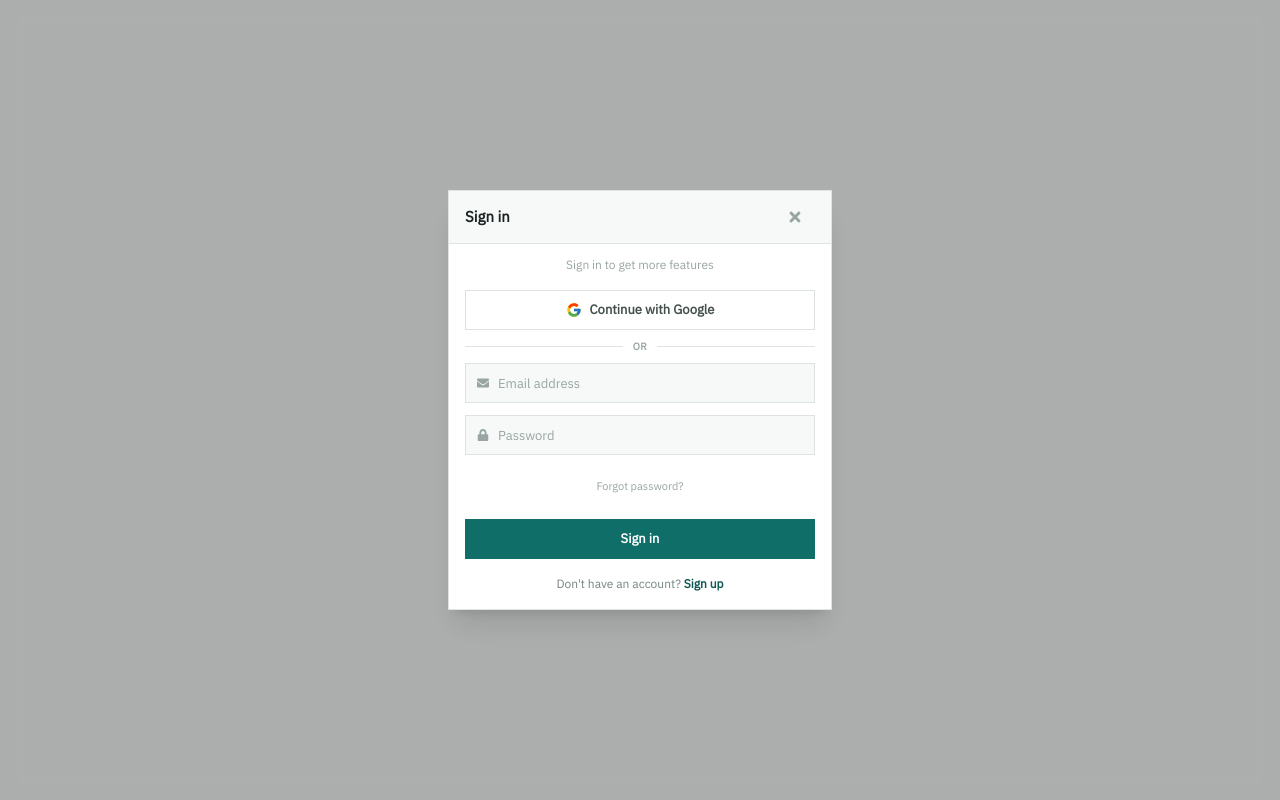
Test: AuthModal › shows validation errors for empty fields
Click the button "Sign in".
click(640, 539)  # box [465,519,815,559]
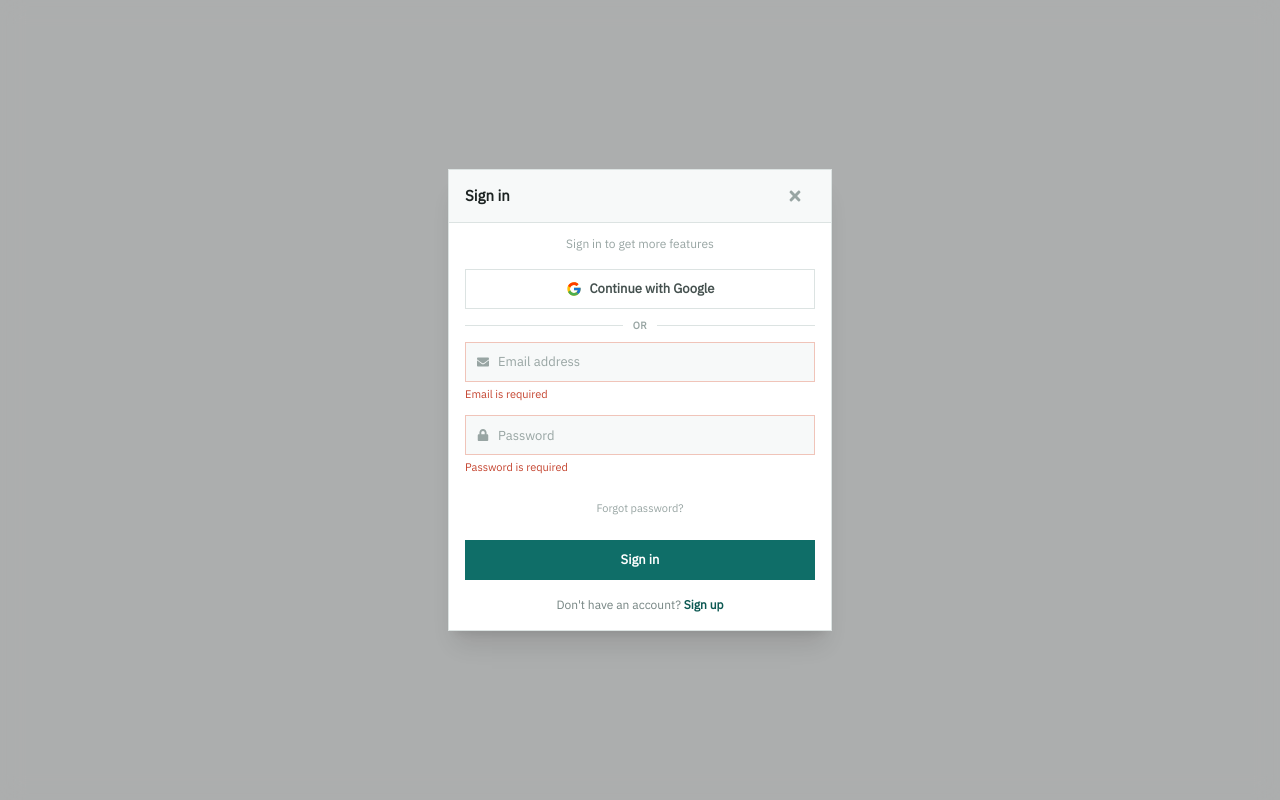
Expected: the text "Email is required" is shown, [465,387,548,401]
Expected: the text "Password is required" is shown, [465,460,568,474]
